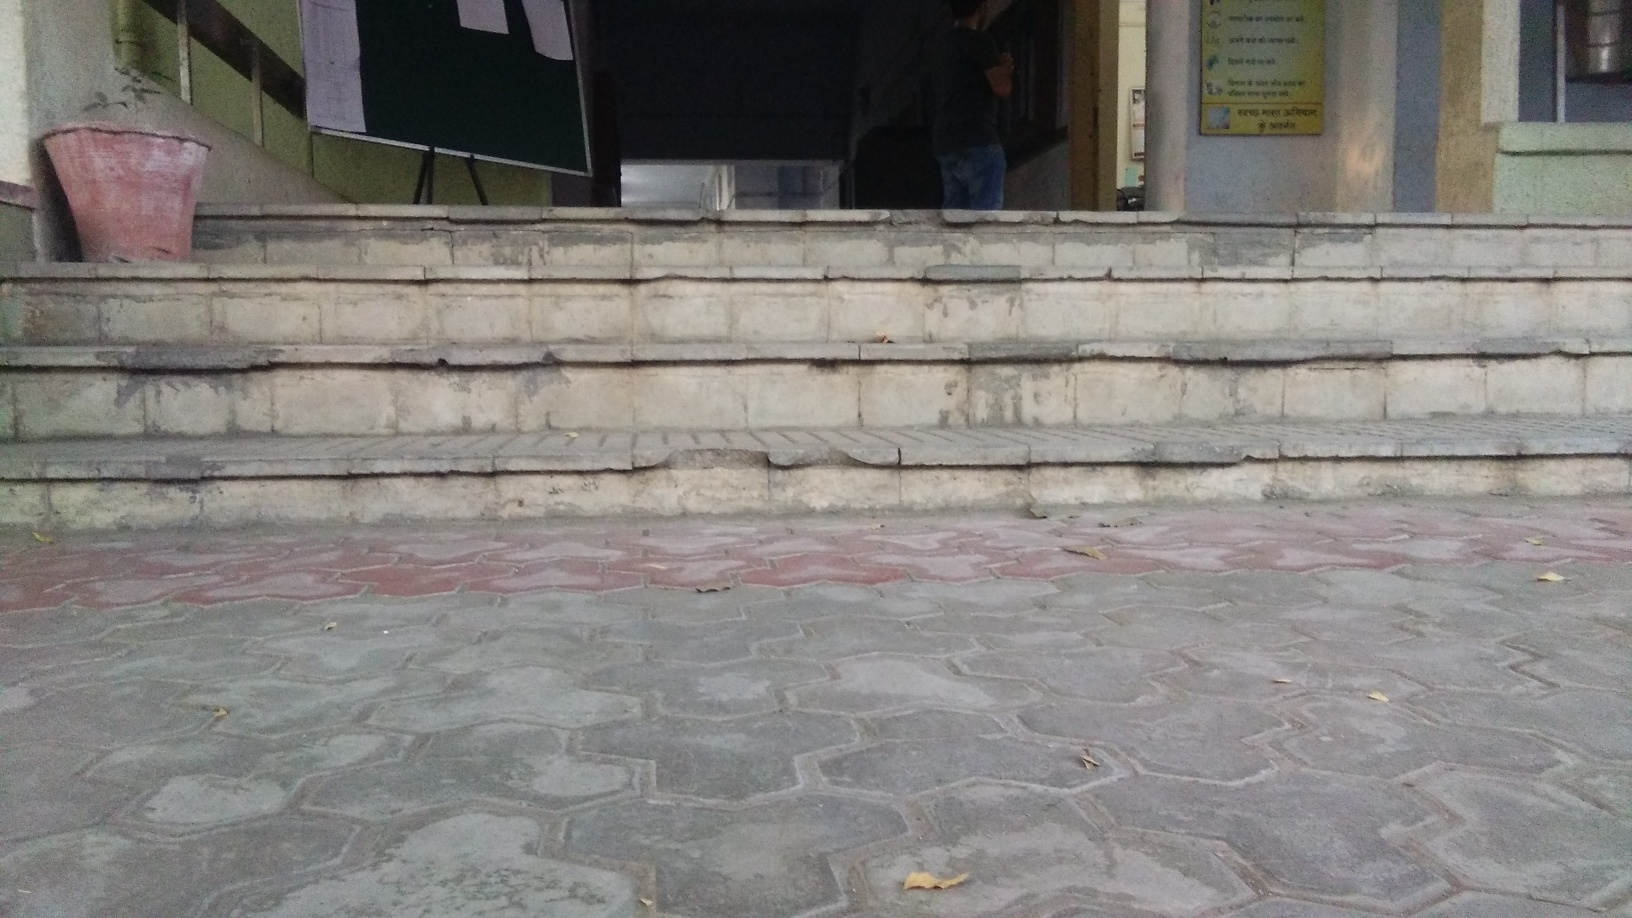stairs_up: (4, 189, 1632, 543)
